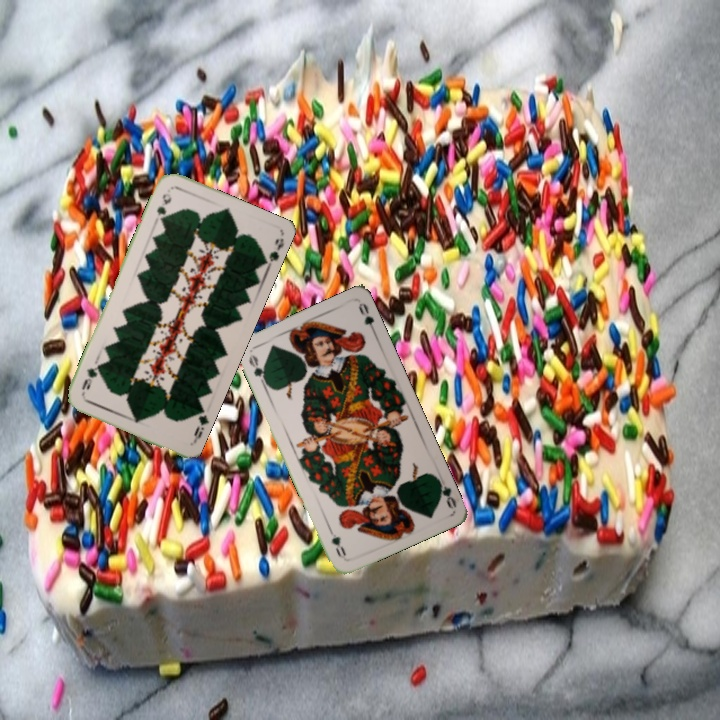G9: (189, 403, 210, 445), (153, 189, 174, 218)
GO: (432, 473, 459, 511), (245, 350, 269, 388)
